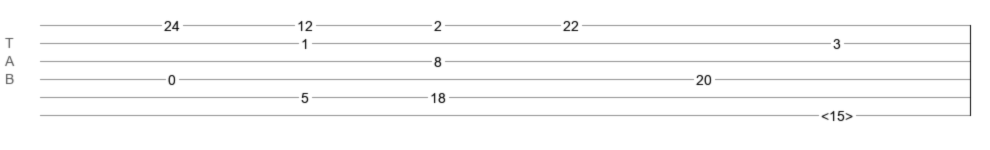0: (168, 72, 176, 82)
1: (301, 36, 309, 46)
12: (297, 18, 313, 28)
18: (430, 90, 446, 100)
2: (434, 18, 442, 28)
20: (696, 72, 712, 82)
22: (563, 18, 579, 28)
24: (164, 18, 180, 28)
3: (833, 36, 841, 46)
5: (301, 90, 309, 100)
8: (434, 54, 442, 64)
harmonic: (821, 108, 853, 118)
